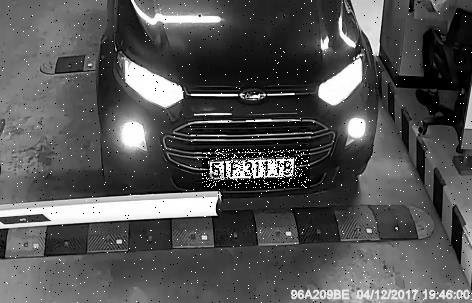License-plate: (203, 150, 311, 189)
